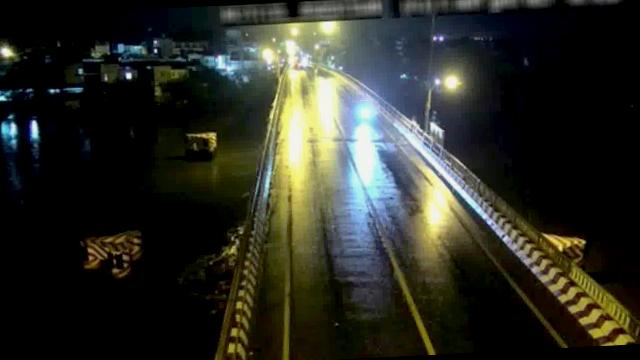Bike: (356, 99, 379, 124)
